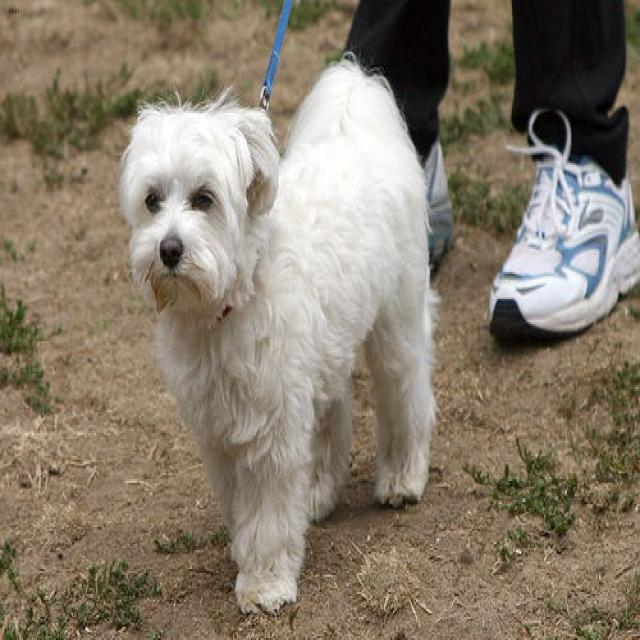dog-havanese: (109, 40, 448, 625)
